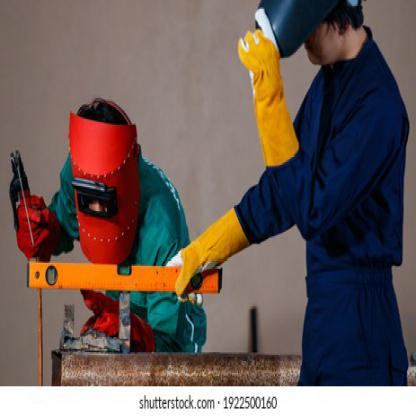with_gloves: (237, 7, 299, 170), (165, 205, 250, 308), (80, 288, 155, 354), (13, 193, 60, 260)
